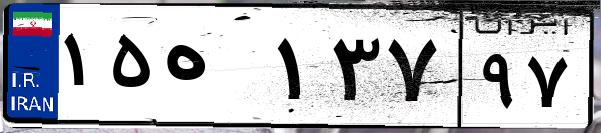1: (270, 28, 330, 110), (57, 26, 110, 100)
3: (330, 28, 385, 110)
5: (110, 28, 158, 98)
7: (385, 28, 445, 110), (525, 38, 570, 115)
9: (475, 38, 525, 113)
ه: (158, 20, 270, 120)
